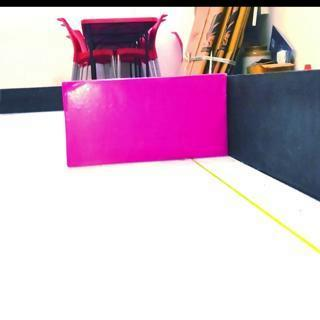xparking: (58, 82, 228, 168)
